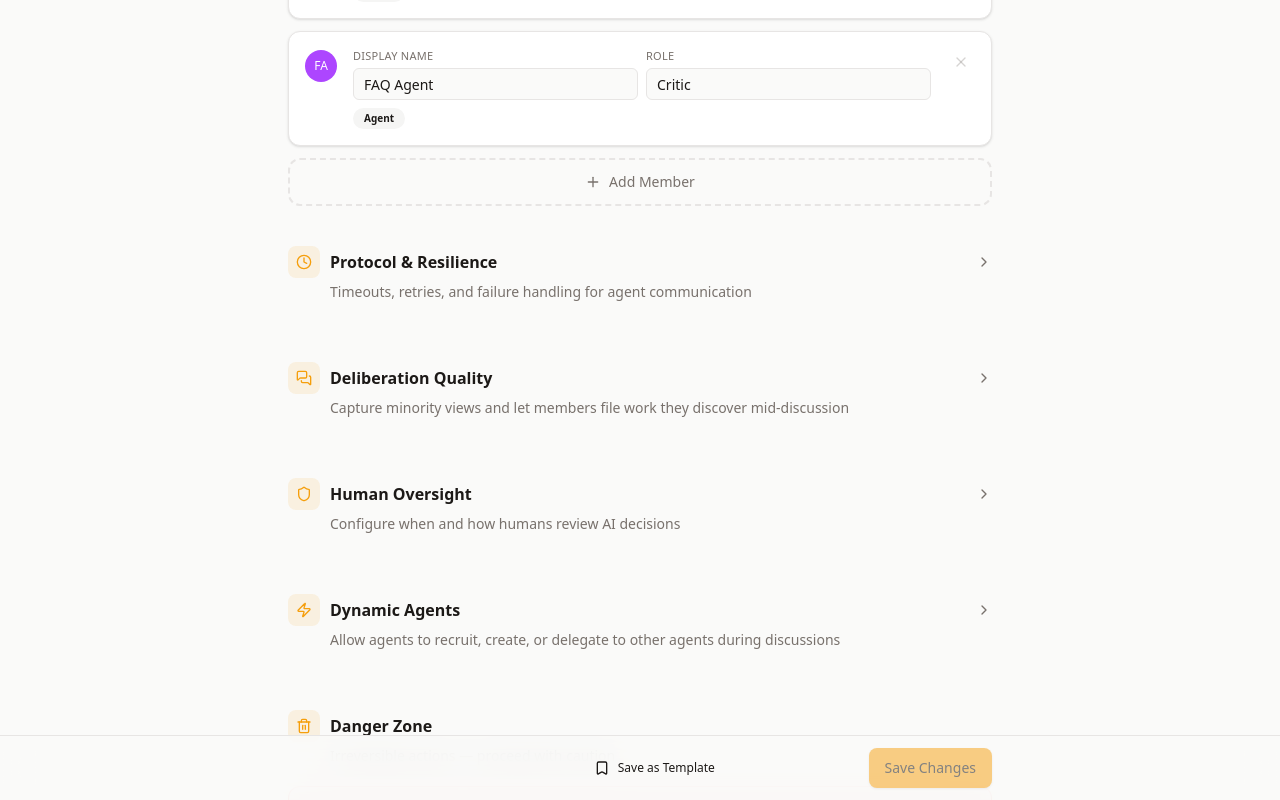
Test: WorkforceSettings — group collaboration parity › deliberation quality (I4 / I5) › hides the caps while agent-filed tasks are off
(page scrolled)
Click the button "Deliberation Quality" at {"x": 640, "y": 400}, box [288,362,992,438]
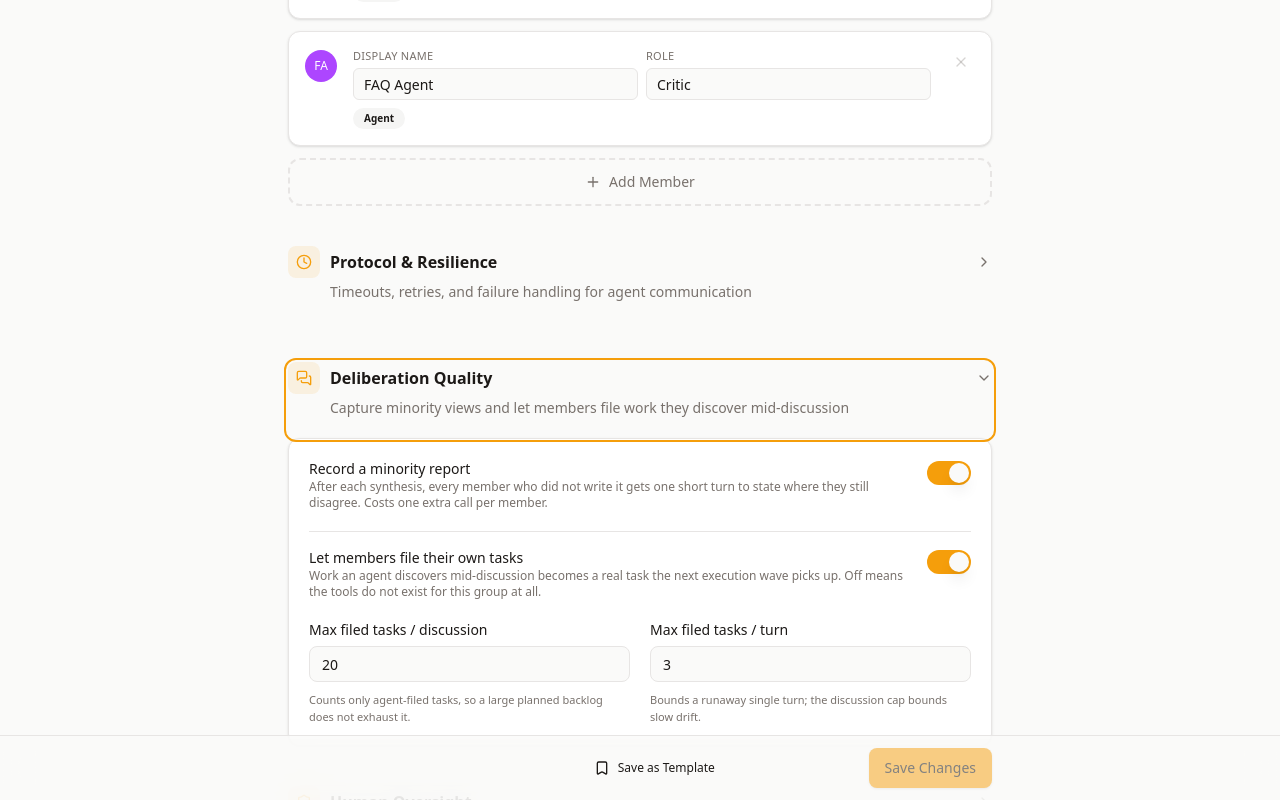
Click the switch with test id "settings-agent-filed-tasks" at {"x": 949, "y": 562}, box [927,550,971,574]
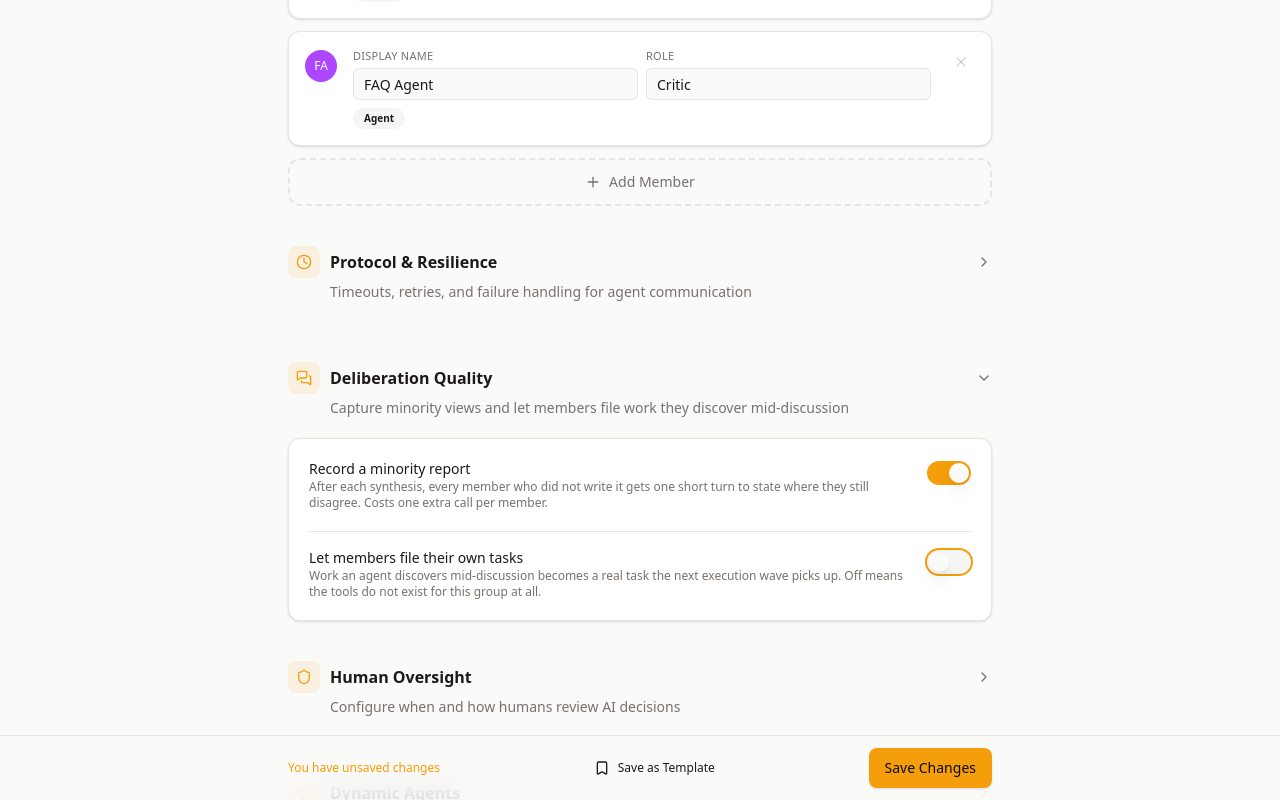
Result: the label labelled "Max filed tasks / turn" is gone
